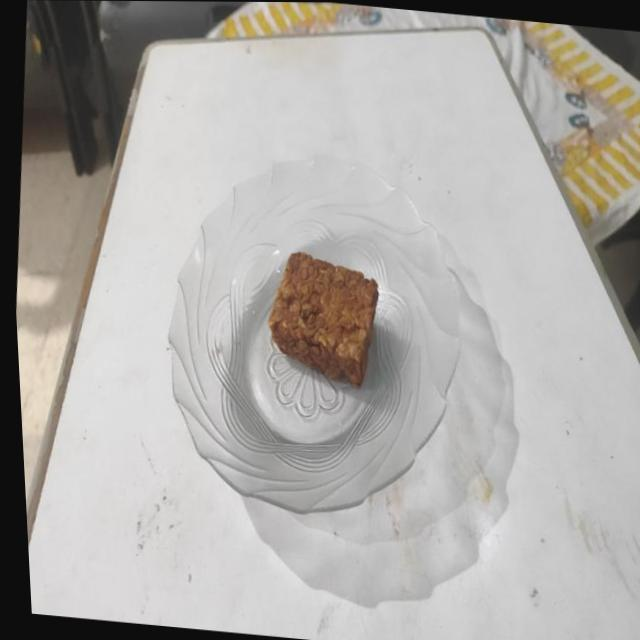tempe_goreng: (268, 252, 378, 386)
